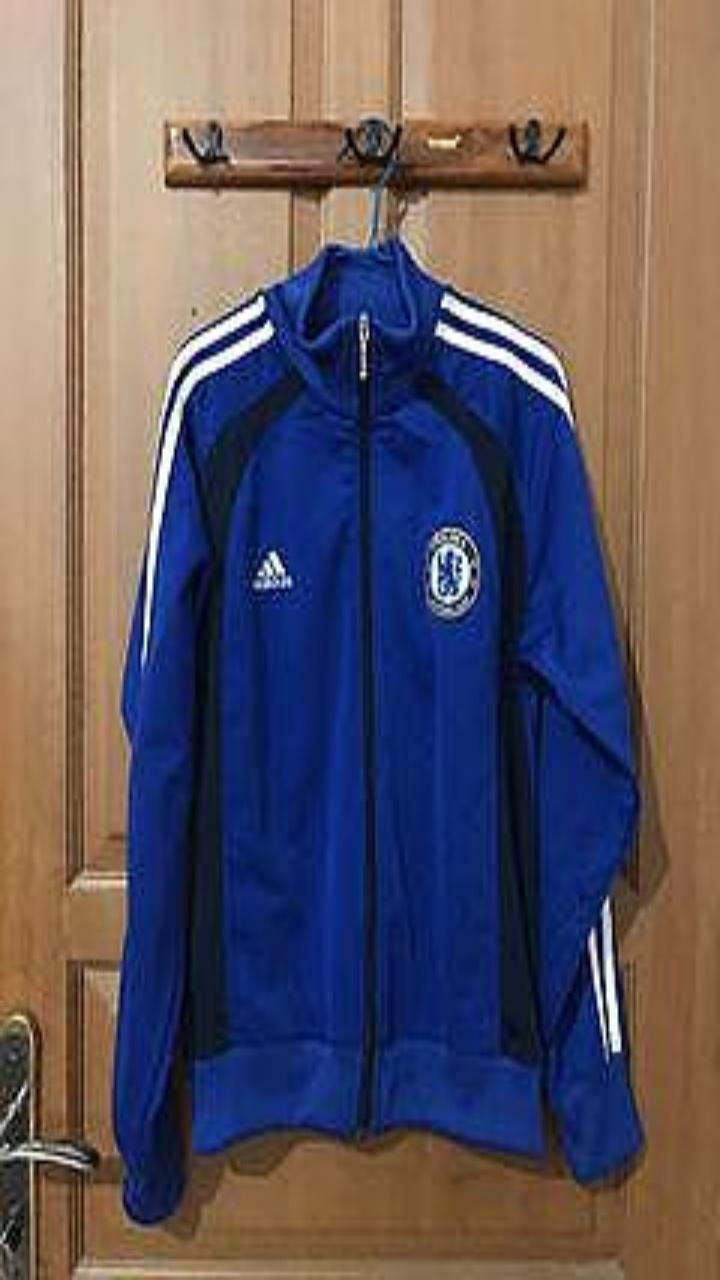Sports_Jacket: (113, 233, 643, 1222)
